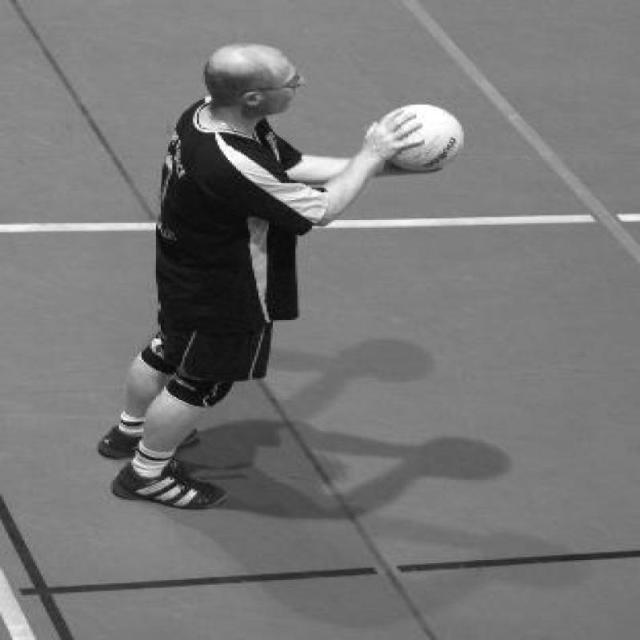volleyball: (375, 103, 466, 174)
